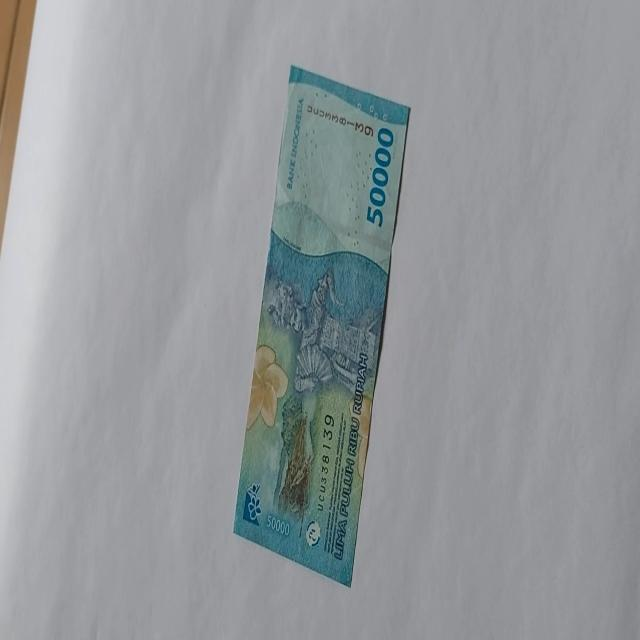lima puluh ribu rupiah: (231, 63, 411, 588)
